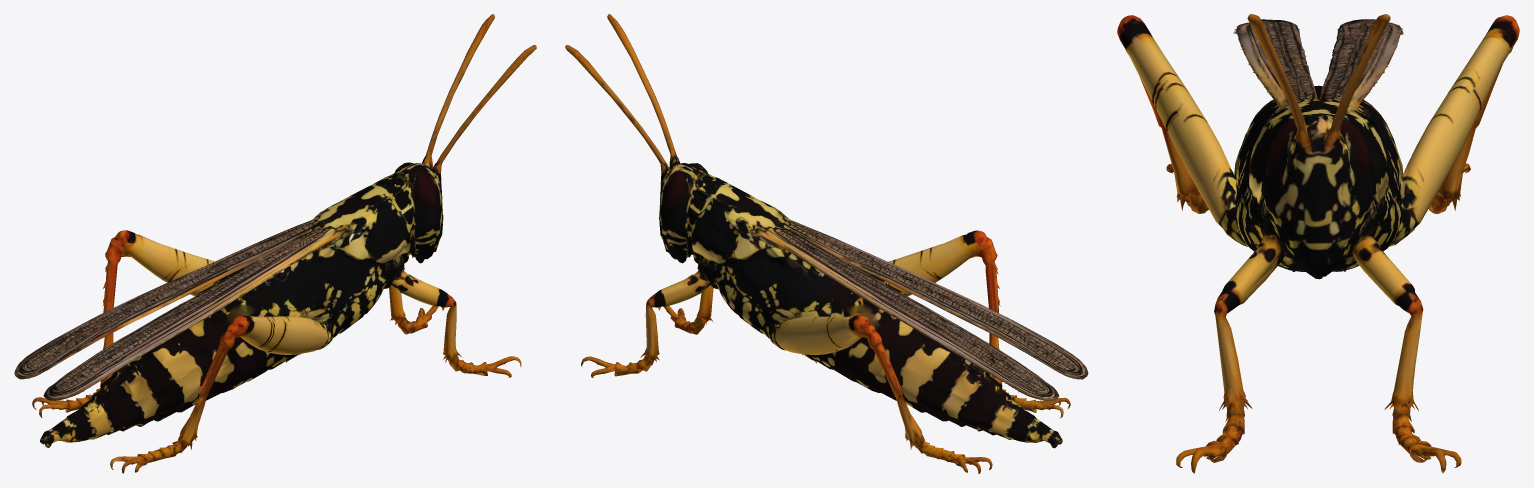
File: grasshopper.glb
3 renders of one model, left to right at view 1: azimuth 30°, elevation 25°; view 2: azimuth 150°, elevation 25°; view 3: azimuth 270°, elevation 25°, orthographic. The views are drawn at different scales.
Parts seen in each view (by area): view 1: material; view 2: material; view 3: material.
Part boxes in pixels (<box>): material: <box>14,14,536,473</box>; material: <box>565,14,1088,473</box>; material: <box>1117,14,1519,473</box>.
Bounding box in the file's own units: 1.02 × 0.6208 × 0.4557.
Materials: 1 (1 with a texture image).
